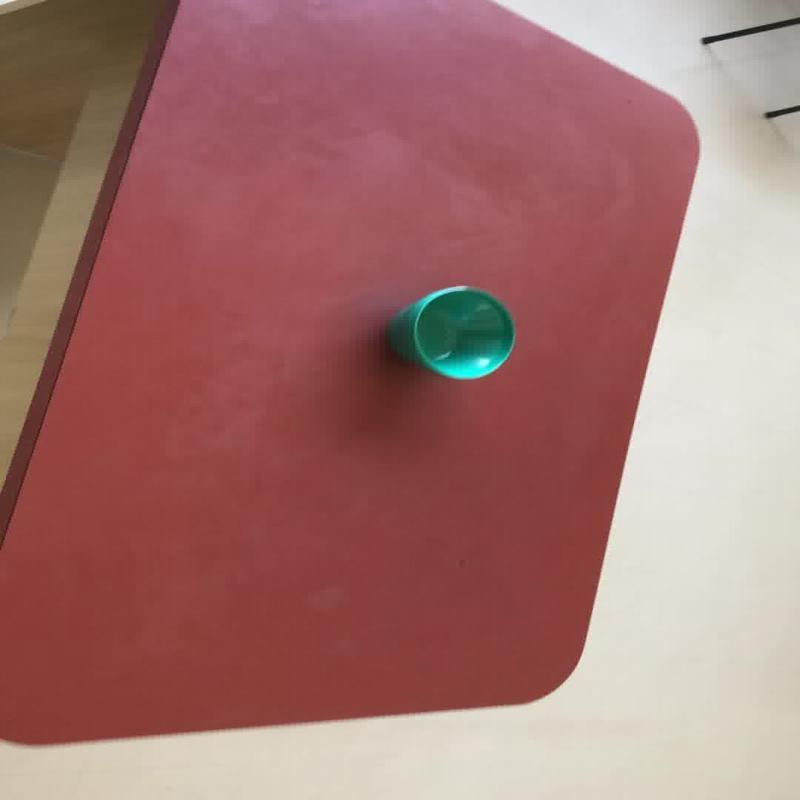bowl: (1, 0, 701, 745), (385, 284, 516, 380)
